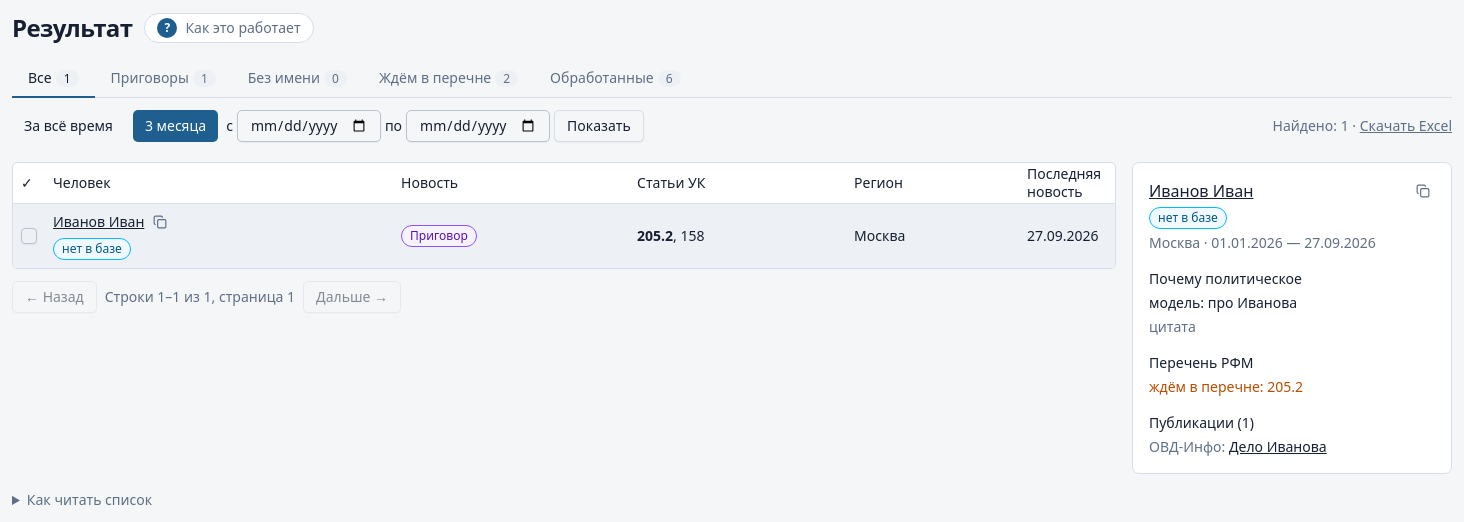
Scenario: opens a queue: its own column, the period kept
Click the button named "Ждём в перечне 2".
click(448, 79)  # box [363,60,534,98]
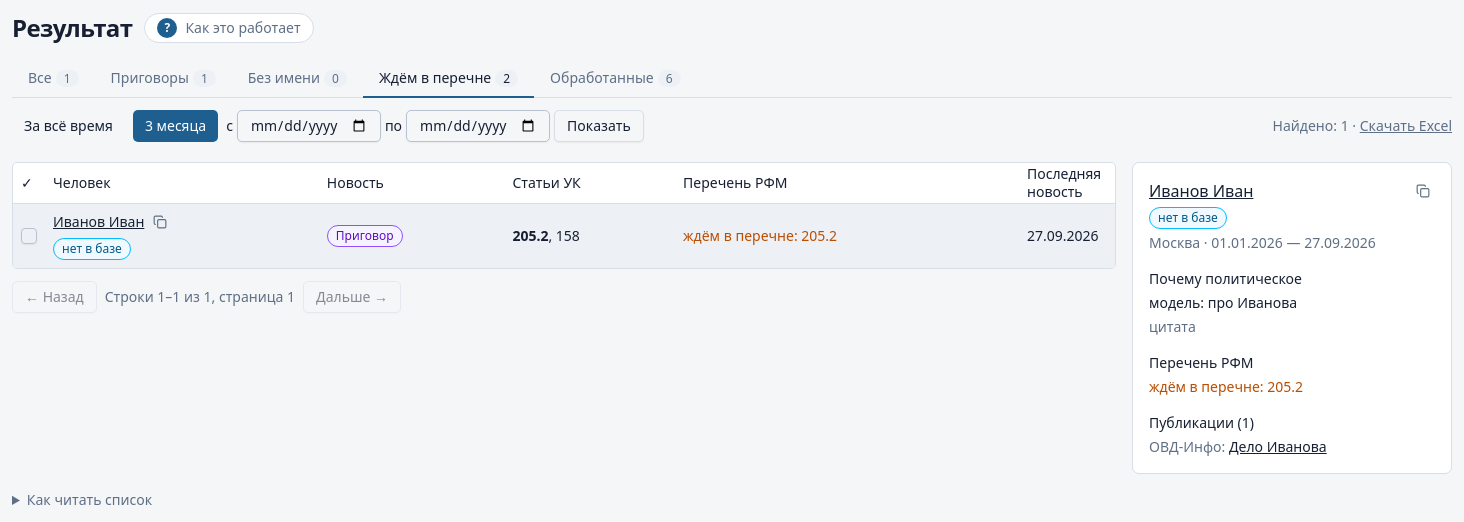
Expected: the column heading "Перечень РФМ" is shown, [675,163,1019,203]
